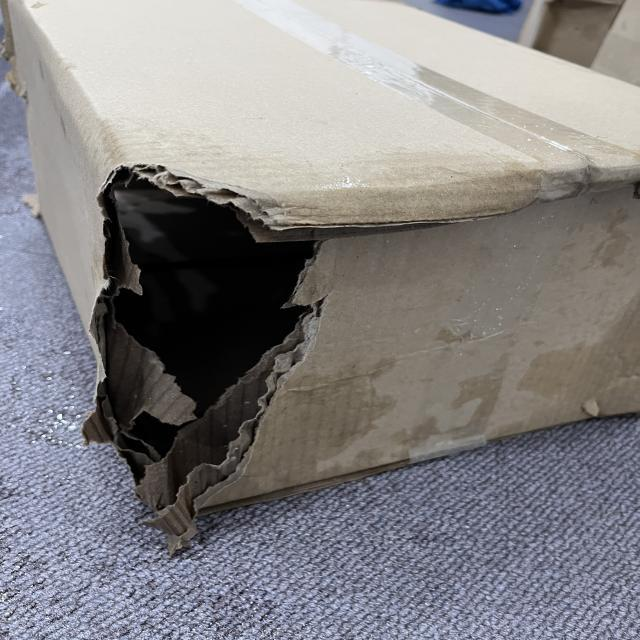hole: (73, 157, 350, 539)
